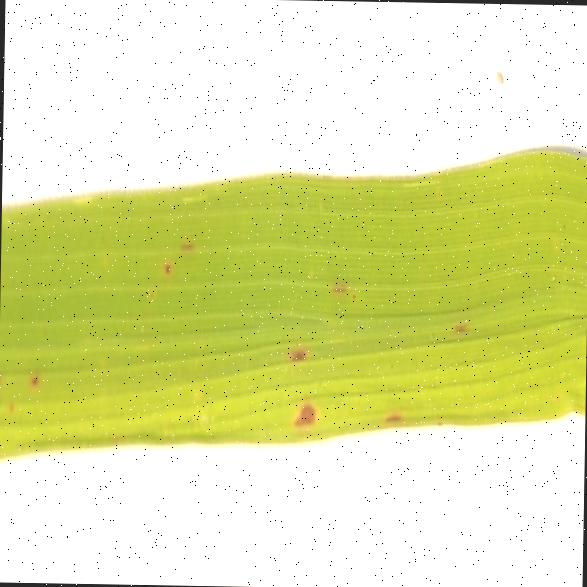Brown_Spot: (285, 326, 324, 430), (20, 353, 42, 400), (177, 227, 202, 259), (380, 406, 408, 424), (158, 250, 172, 279)
